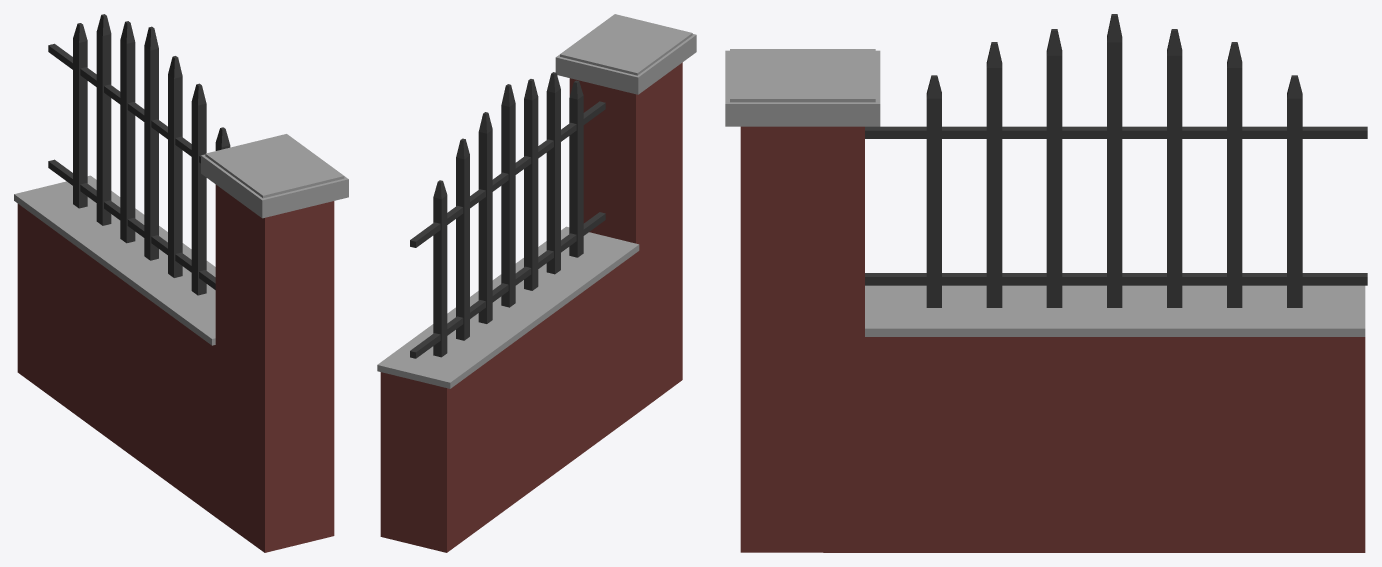
The model's file is ParkFence.fbx.
3 views of the same model, side by side, from view 1: azimuth 30°, elevation 25°; view 2: azimuth 150°, elevation 25°; view 3: azimuth 270°, elevation 25° (orthographic). The views are drawn at different scales.
Visible parts, largest first — view 1: Cube.002; view 2: Cube.002; view 3: Cube.002.
Boxes of the visible parts, bbox=[...] form: Cube.002: bbox=[14, 14, 348, 552]; Cube.002: bbox=[377, 14, 696, 552]; Cube.002: bbox=[725, 14, 1367, 552].
Bounding box in the file's own units: 129 × 582 × 656.
